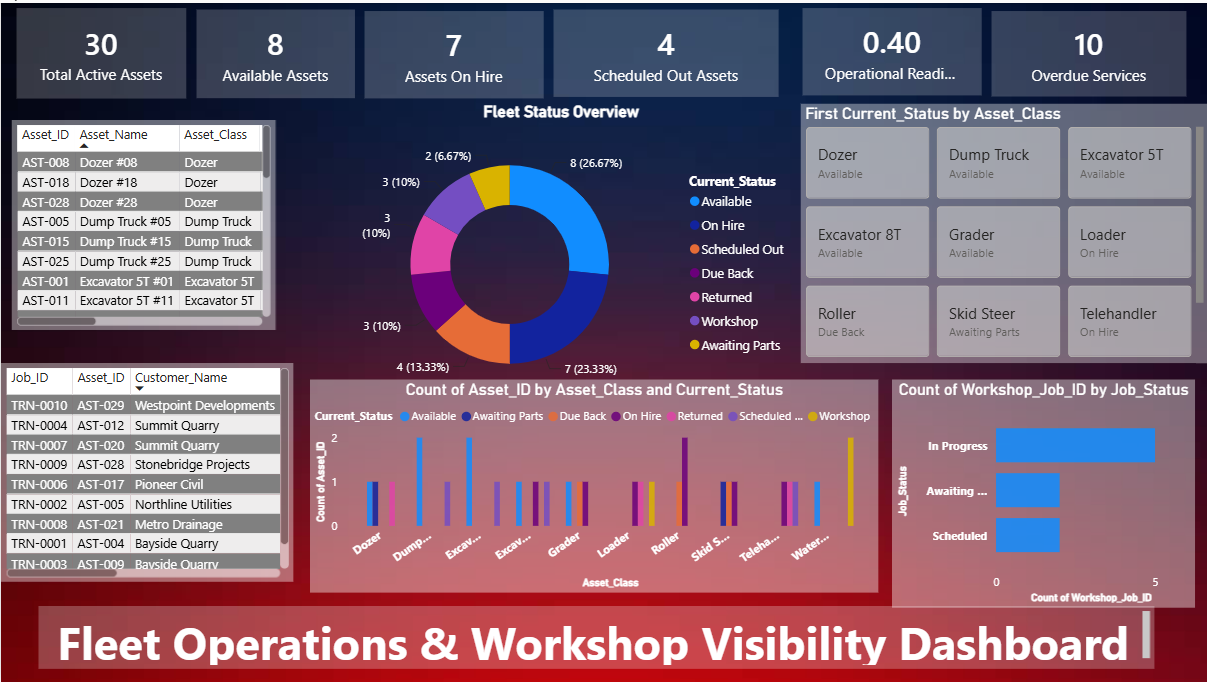

This screenshot's page, from the dashboard's own definition file:
{"tool":"powerbi","page":{"name":"Fleet Operations & Workshop Visibility Dashboard","canvas":[1280,720],"ordinal":0},"visuals":[{"type":"cardVisual","fields":{"Data":["KPIMeasures.Total Active Assets"]},"box":[11.1,0,190.9,106.6],"z":0},{"type":"cardVisual","fields":{"Data":["KPIMeasures.Available Assets"]},"box":[202,1.6,178.1,105],"z":1000},{"type":"cardVisual","fields":{"Data":["KPIMeasures.Assets On Hire"]},"box":[380.2,3.2,200.4,103.4],"z":2000},{"type":"cardVisual","fields":{"Data":["KPIMeasures.Scheduled Out Assets"]},"box":[580.6,1.6,249.7,103.4],"z":3000},{"type":"cardVisual","fields":{"Data":["KPIMeasures.Operational Readiness %"]},"box":[844.6,0,200.4,103.4],"z":4000},{"type":"cardVisual","fields":{"Data":["KPIMeasures.Overdue Services"]},"box":[1045,3.2,217.9,101.8],"z":5000},{"type":"donutChart","title":"Fleet Status Overview","fields":{"Category":["FleetAssetsTable.Current_Status"],"Y":["CountNonNull(FleetAssetsTable.Asset_ID)"]},"box":[343.6,105,501,324.5],"z":6000},{"type":"tableEx","fields":{"Values":["FleetAssetsTable.Asset_ID","FleetAssetsTable.Asset_Name","FleetAssetsTable.Asset_Class","FleetAssetsTable.Current_Status","FleetAssetsTable.Current_Location","FleetAssetsTable.Next_Booking_Date.Variation.Date Hierarchy.Year","FleetAssetsTable.Next_Booking_Date.Variation.Date Hierarchy.Quarter","FleetAssetsTable.Next_Booking_Date.Variation.Date Hierarchy.Month","FleetAssetsTable.Next_Booking_Date.Variation.Date Hierarchy.Day","FleetAssetsTable.Risk_Flag"]},"box":[11.1,124.1,279.9,222.7],"z":7000},{"type":"advancedSlicerVisual","fields":{"Values":["FleetAssetsTable.Asset_Class"],"Label":["Min(FleetAssetsTable.Current_Status)"]},"box":[847.8,106.6,432.6,275.2],"z":8000},{"type":"tableEx","fields":{"Values":["Deliveries_Pickups.Job_ID","Deliveries_Pickups.Asset_ID","Deliveries_Pickups.Customer_Name","Deliveries_Pickups.Job_Type","Deliveries_Pickups.Due_Date.Variation.Date Hierarchy.Year","Deliveries_Pickups.Due_Date.Variation.Date Hierarchy.Quarter","Deliveries_Pickups.Due_Date.Variation.Date Hierarchy.Month","Deliveries_Pickups.Due_Date.Variation.Date Hierarchy.Day","Deliveries_Pickups.Job_Status","Deliveries_Pickups.Operational_Risk"]},"box":[0,381.7,310.2,232.2],"z":9000},{"type":"clusteredColumnChart","fields":{"Category":["Fleet_Assets.Asset_Class"],"Y":["CountNonNull(Fleet_Assets.Asset_ID)"],"Series":["Fleet_Assets.Current_Status"]},"box":[327.7,399.2,602.8,225.9],"z":10000},{"type":"barChart","fields":{"Category":["WorkshopJobsTable.Job_Status"],"Y":["CountNonNull(WorkshopJobsTable.Workshop_Job_ID)"]},"box":[944.8,399.2,321.3,241.8],"z":11000},{"type":"textbox","box":[39.8,639.4,1183.4,66.8],"z":12000}]}

Visuals, with their boxes in screenshot pixels (x1, y1, x2, y2), scaled from the page's 1280x720 canvas onto the 1207x682 screenshot:
cardVisual - KPIMeasures.Total Active Assets: rect(10, 0, 190, 101)
cardVisual - KPIMeasures.Available Assets: rect(190, 2, 358, 101)
cardVisual - KPIMeasures.Assets On Hire: rect(359, 3, 547, 101)
cardVisual - KPIMeasures.Scheduled Out Assets: rect(547, 2, 783, 99)
cardVisual - KPIMeasures.Operational Readiness %: rect(796, 0, 985, 98)
cardVisual - KPIMeasures.Overdue Services: rect(985, 3, 1191, 99)
"Fleet Status Overview" donutChart: rect(324, 99, 796, 407)
tableEx - FleetAssetsTable.Asset_ID x FleetAssetsTable.Asset_Name: rect(10, 118, 274, 328)
advancedSlicerVisual - FleetAssetsTable.Asset_Class x Min(FleetAssetsTable.Current_Status): rect(799, 101, 1206, 362)
tableEx - Deliveries_Pickups.Job_ID x Deliveries_Pickups.Asset_ID: rect(0, 362, 293, 581)
clusteredColumnChart - Fleet_Assets.Asset_Class x CountNonNull(Fleet_Assets.Asset_ID): rect(309, 378, 877, 592)
barChart - WorkshopJobsTable.Job_Status x CountNonNull(WorkshopJobsTable.Workshop_Job_ID): rect(891, 378, 1194, 607)
textbox: rect(38, 606, 1153, 669)
